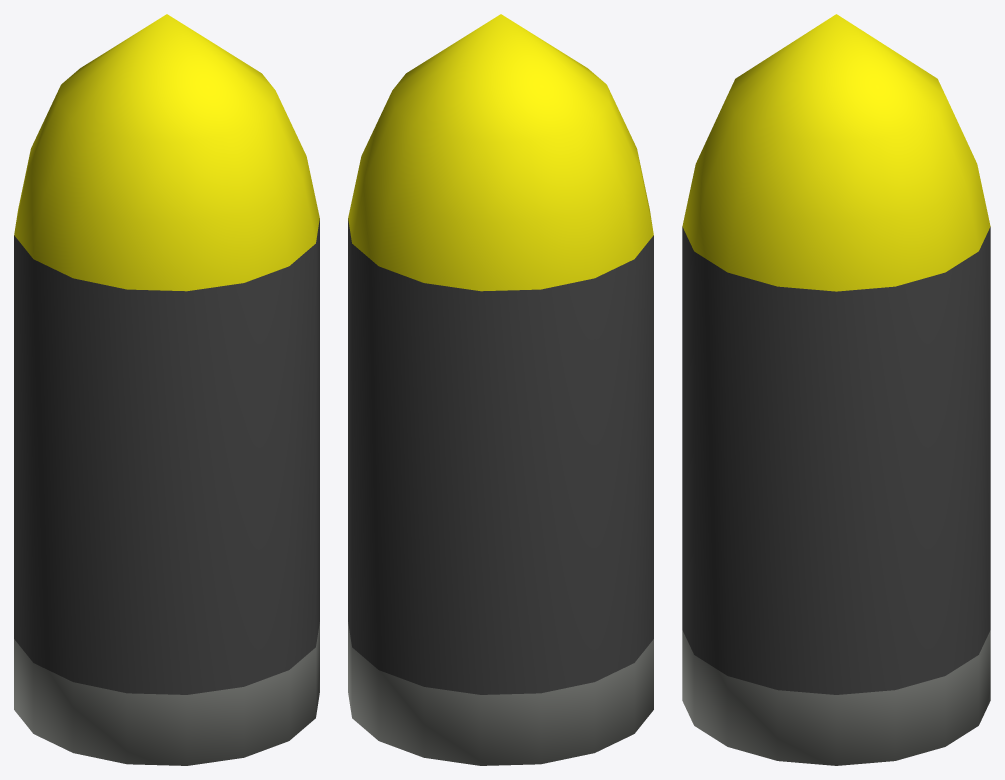
Rendered from shell.fbx.
The picture shows the model from 3 angles, left to right: view 1: azimuth 30°, elevation 25°; view 2: azimuth 150°, elevation 25°; view 3: azimuth 270°, elevation 25°; orthographic projection.
Visible parts, largest first — view 1: Cylinder; view 2: Cylinder; view 3: Cylinder.
Boxes of the visible parts, bbox=[...] form: Cylinder: bbox=[14, 14, 319, 765]; Cylinder: bbox=[348, 14, 653, 765]; Cylinder: bbox=[682, 14, 990, 765].
Bounding box in the file's own units: 64.19 × 158 × 64.19.
